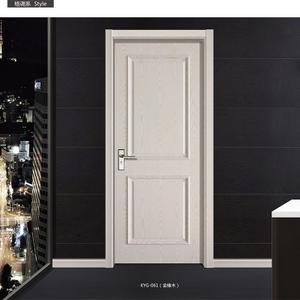door: (114, 40, 202, 261)
